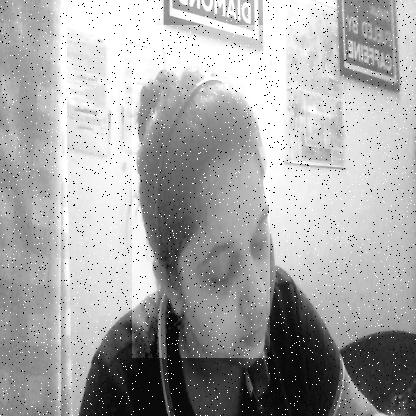Distracted: (132, 25, 270, 358)
